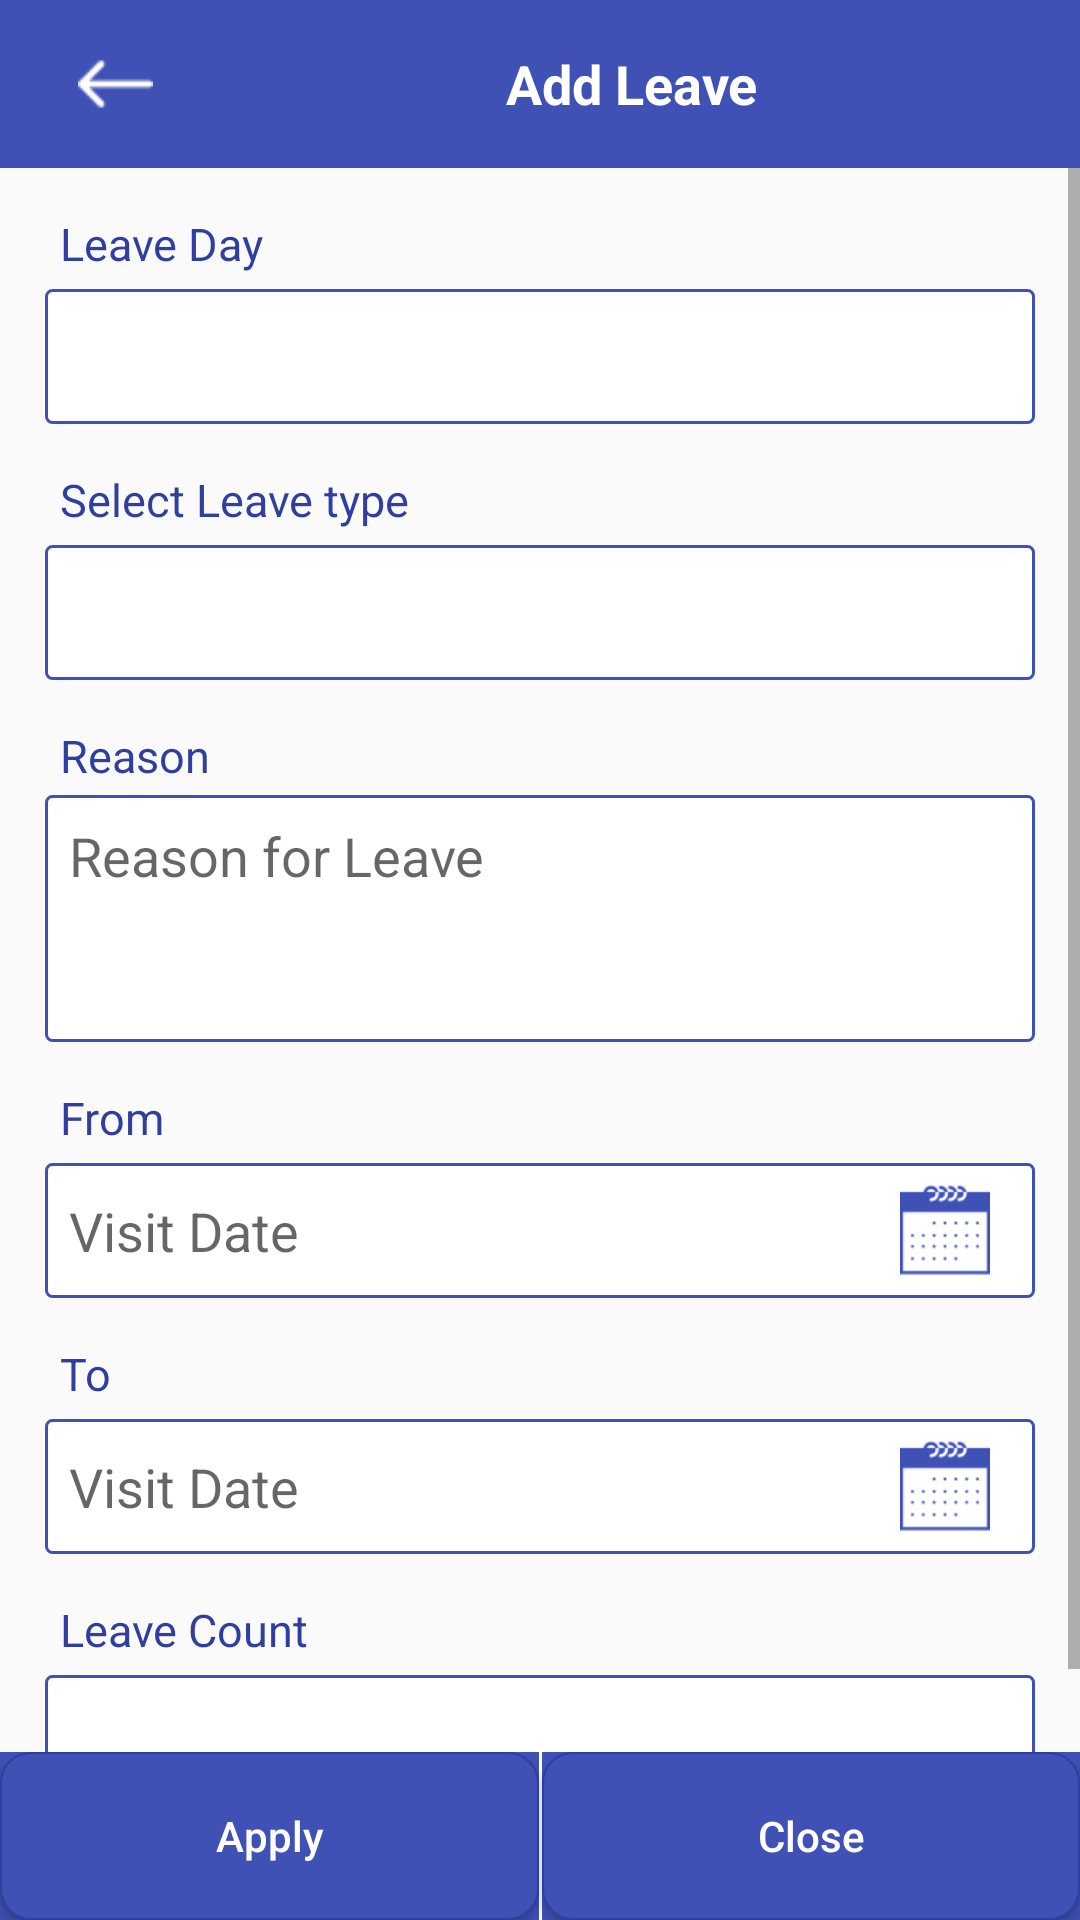

Point at icon controls on the screen. Image size 1080×1920, points as (x=x, y=y).
back: (x=115, y=84)
